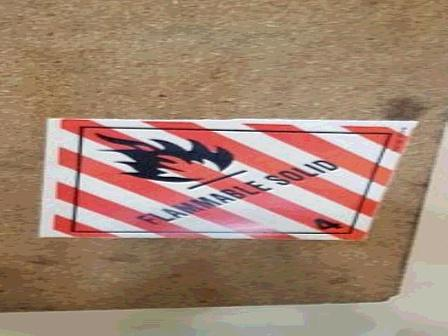flammable-solid: (40, 118, 419, 237)
